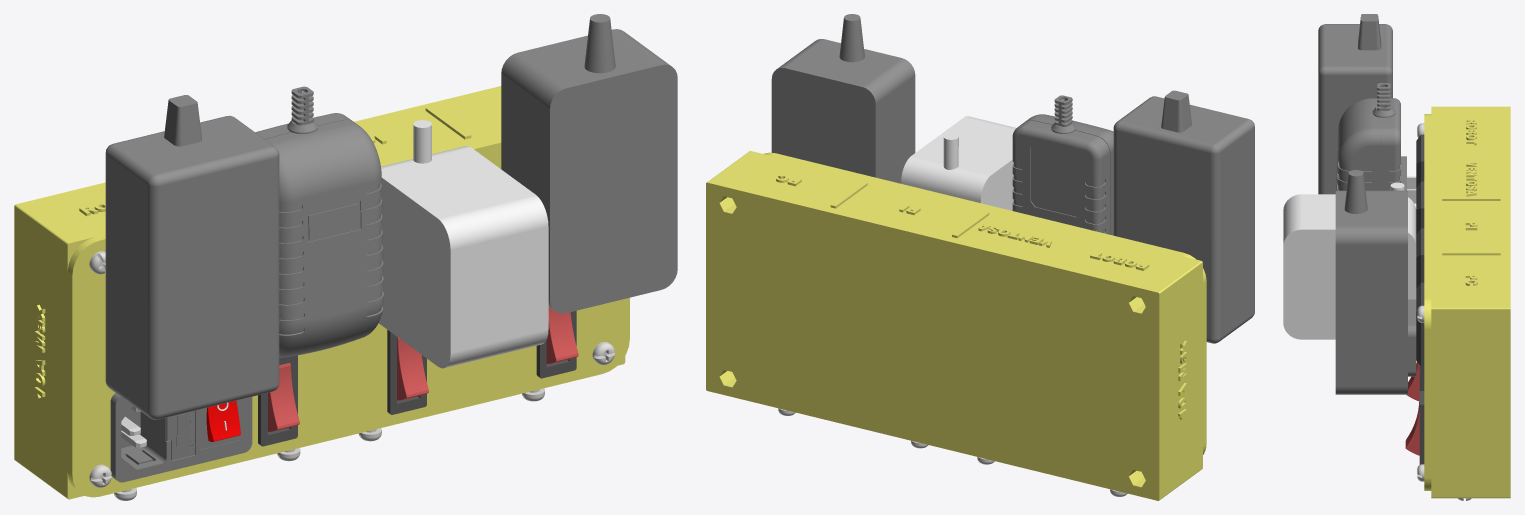
Rendered from ensambleMultitoma.dae.
The picture shows the model from 3 angles, left to right: view 1: azimuth 30°, elevation 25°; view 2: azimuth 150°, elevation 25°; view 3: azimuth 270°, elevation 25°; orthographic projection. The views are drawn at different scales.
Parts seen in each view (by area): view 1: ensambleMultitoma; view 2: ensambleMultitoma; view 3: ensambleMultitoma.
Boxes of the visible parts, box(x1,y1,x2,y2) form: ensambleMultitoma: box(14, 14, 677, 500); ensambleMultitoma: box(706, 14, 1254, 500); ensambleMultitoma: box(1283, 14, 1510, 500).
Size of the model in its own units: 206 by 97.5 by 157.
